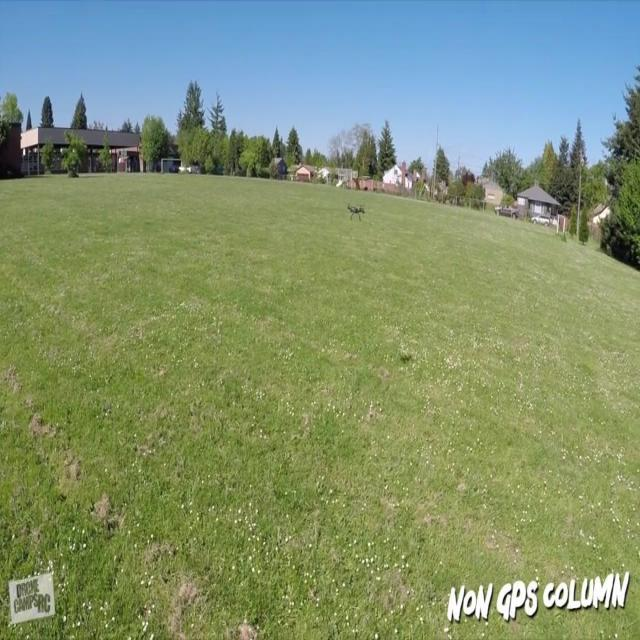UAV: (347, 204, 366, 222)
